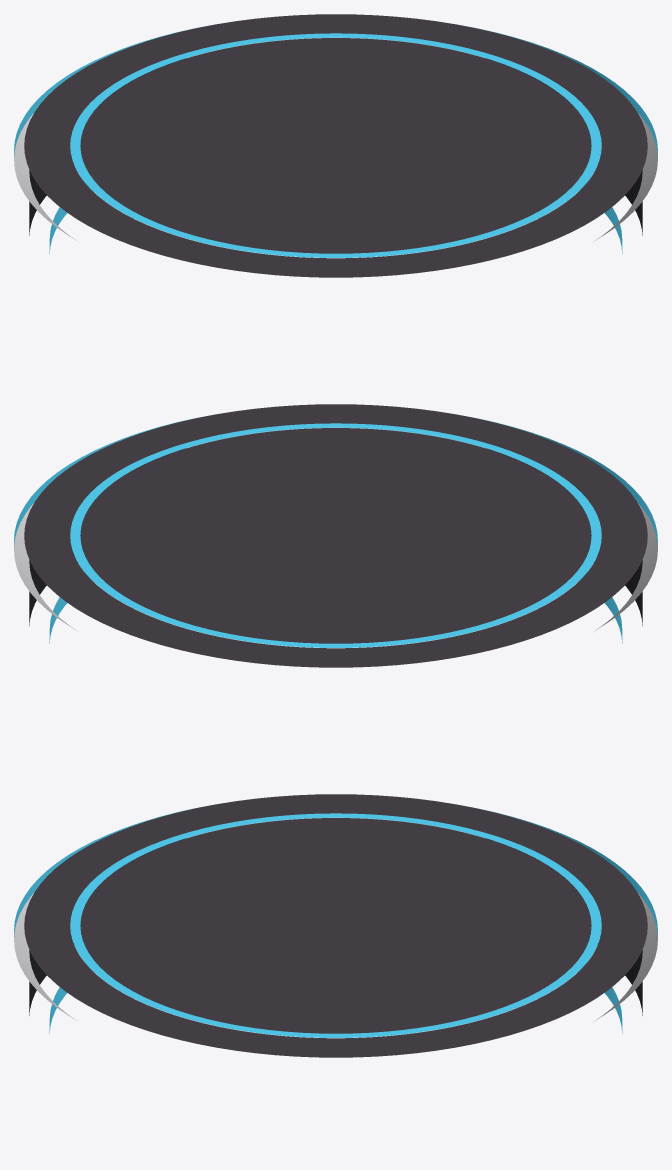
File: podium2_sapphire.glb
3 renders of one model, top to bottom at view 1: azimuth 30°, elevation 25°; view 2: azimuth 150°, elevation 25°; view 3: azimuth 270°, elevation 25°, orthographic.
Parts seen in each view (by area): view 1: p8, p6, p7, p3, p4, p2; view 2: p8, p6, p7, p3, p4, p2; view 3: p8, p6, p7, p3, p4, p2.
Part boxes in pixels (bbox=[...]): p8: bbox=[80, 38, 591, 253]; p6: bbox=[24, 14, 647, 277]; p7: bbox=[70, 33, 601, 257]; p3: bbox=[14, 37, 657, 240]; p4: bbox=[14, 24, 657, 157]; p2: bbox=[29, 58, 642, 235]; p8: bbox=[80, 428, 591, 643]; p6: bbox=[24, 404, 647, 667]; p7: bbox=[70, 423, 601, 647]; p3: bbox=[14, 427, 657, 630]; p4: bbox=[14, 414, 657, 547]; p2: bbox=[29, 448, 642, 625]; p8: bbox=[80, 818, 591, 1033]; p6: bbox=[24, 794, 647, 1057]; p7: bbox=[70, 813, 601, 1037]; p3: bbox=[14, 817, 657, 1020]; p4: bbox=[14, 804, 657, 937]; p2: bbox=[29, 838, 642, 1015].
Bounding box in the file's own units: 2.52 × 0.471 × 2.52.
